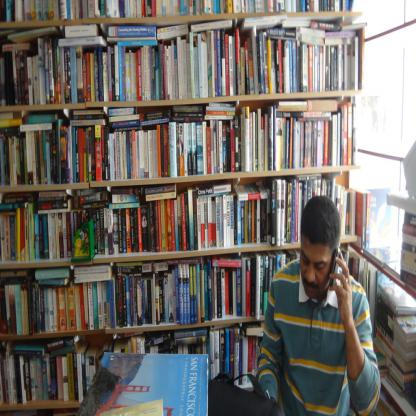book: (0, 94, 358, 183), (0, 26, 361, 104), (0, 248, 356, 326), (0, 178, 356, 254), (0, 323, 266, 406), (73, 351, 210, 415), (353, 268, 416, 404), (0, 0, 356, 15), (347, 181, 396, 257), (398, 210, 416, 287), (100, 398, 162, 416)
